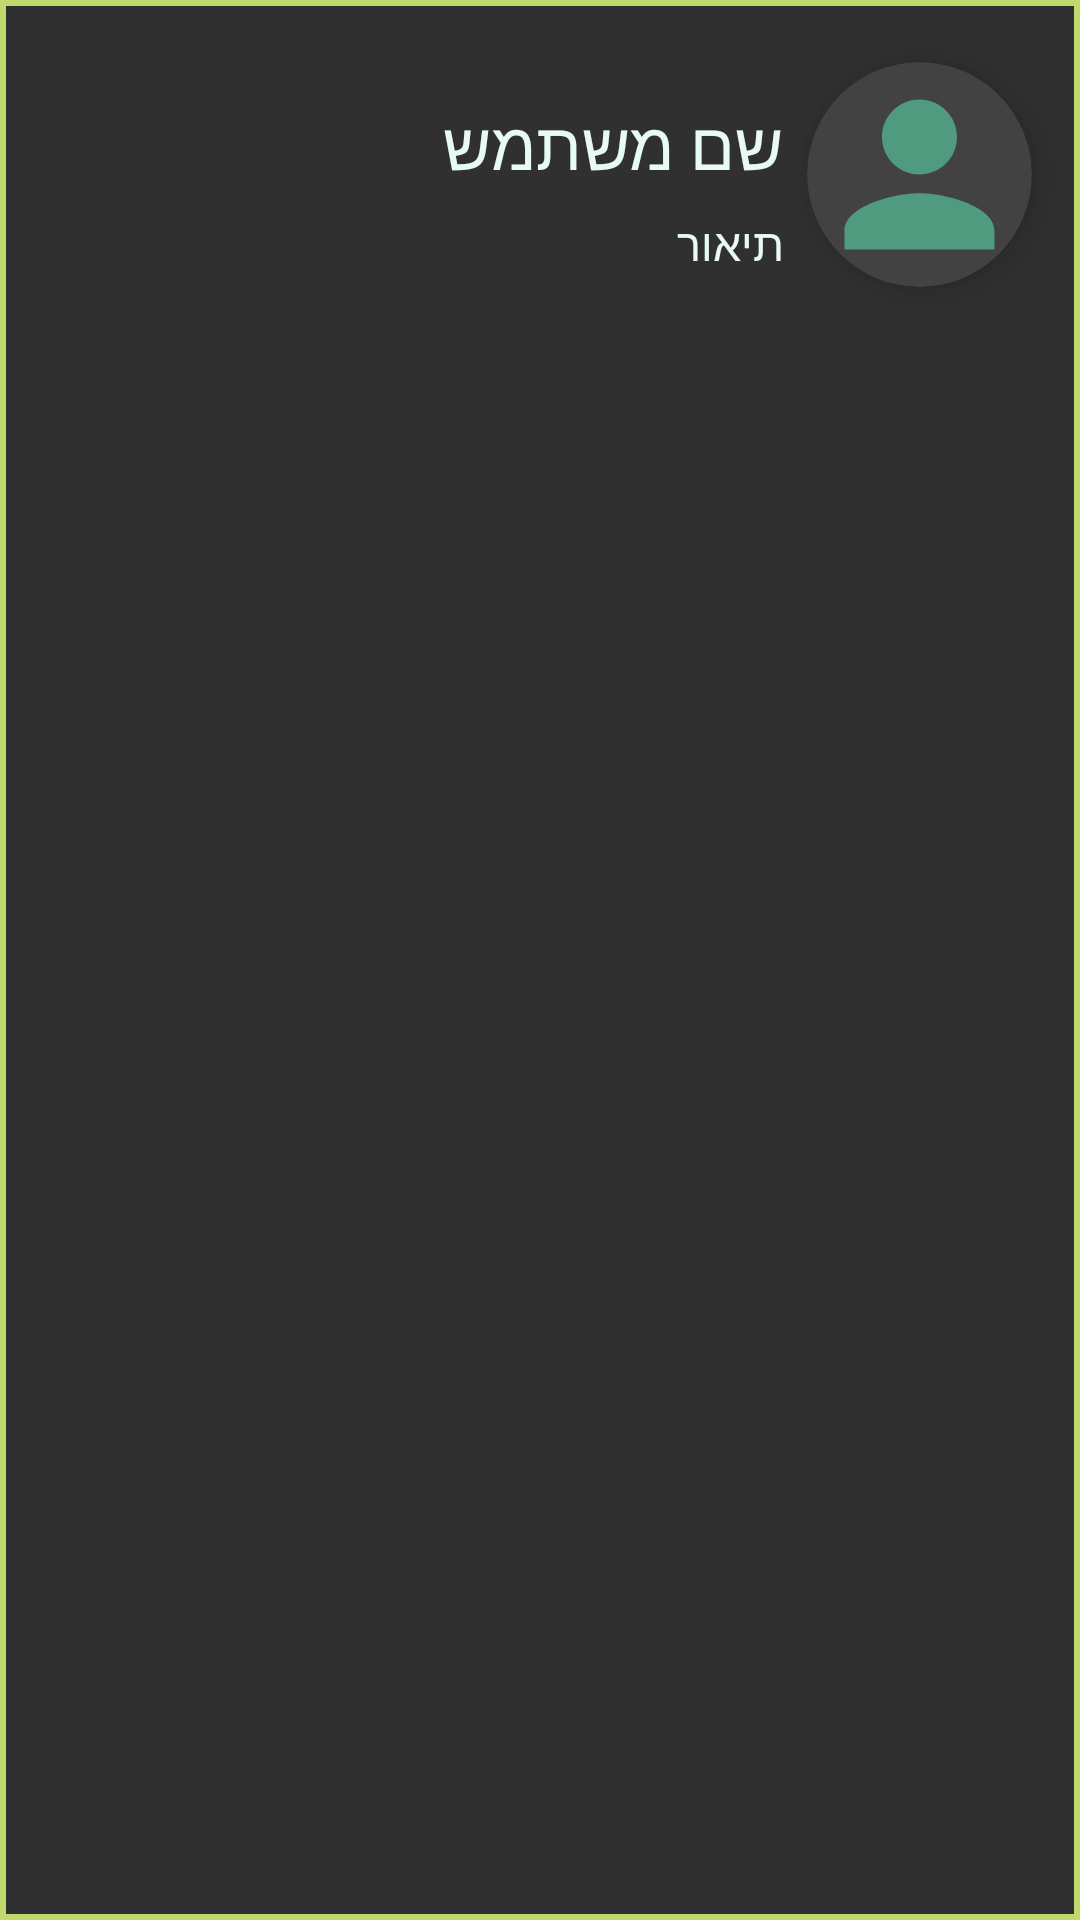

Icon bounding boxes for this 1080 x 1920 phone screenshot, format (x1=x1, y1=y1, x2=x2, y2=y2):
person: (x1=844, y1=99, x2=995, y2=250)
